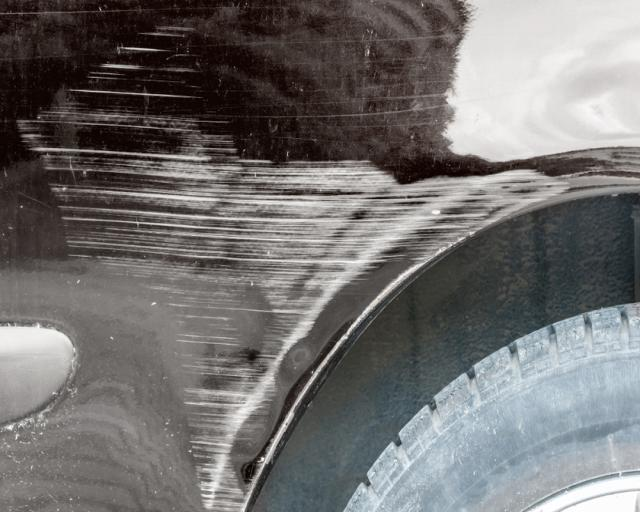scratch: (17, 17, 573, 512)
